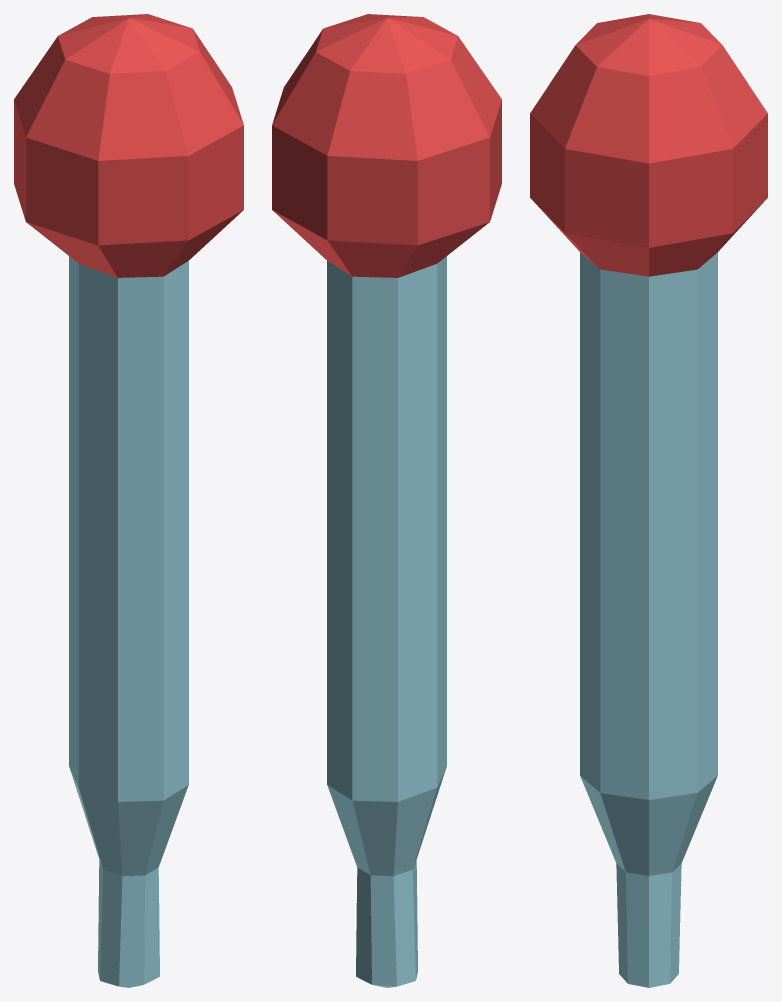
File: Pipeta.fbx
3 renders of one model, left to right at view 1: azimuth 30°, elevation 25°; view 2: azimuth 150°, elevation 25°; view 3: azimuth 270°, elevation 25°, orthographic.
Visible parts, largest first — view 1: pipeta; view 2: pipeta; view 3: pipeta.
Boxes of the visible parts, x1,y1,x2,y2 form: pipeta: (14,14,243,987); pipeta: (272,14,501,987); pipeta: (530,14,767,987).
Bounding box in the file's own units: 60.27 × 271 × 60.26.
